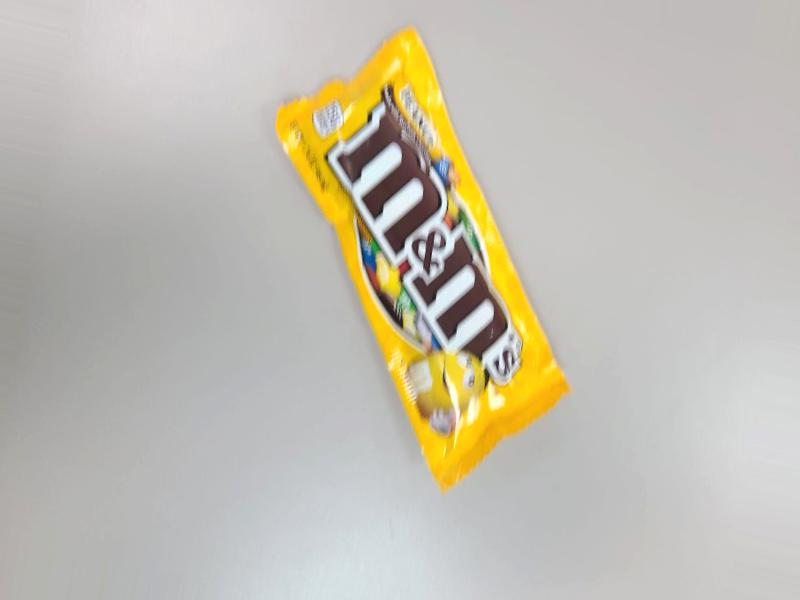m&m: (325, 18, 562, 453)
